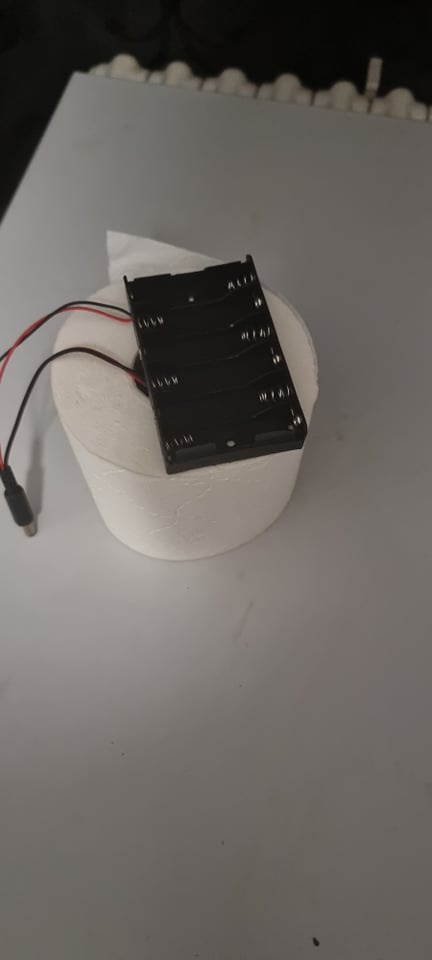BATTERY BOX: (120, 254, 316, 479)
